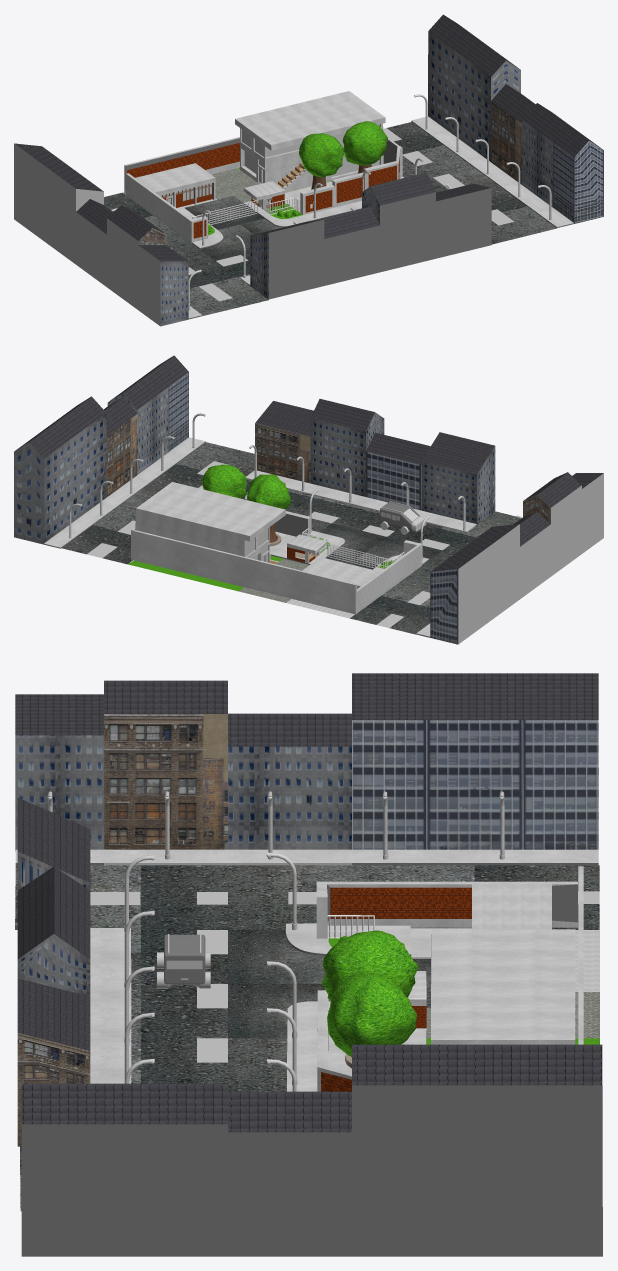
File: Tecsup.fbx
3 renders of one model, top to bottom at view 1: azimuth 30°, elevation 25°; view 2: azimuth 150°, elevation 25°; view 3: azimuth 270°, elevation 25°, orthographic. The views are drawn at different scales.
Parts seen in each view (by area): view 1: Line001, Box008, Sphere006, Sphere005, Box001; view 2: Line001, Sphere006, Box008, Sphere005, Box009, Box001; view 3: Line001, Sphere006, Sphere005, Box008, Box009.
Part boxes in pixels (x1,y1,x2,y2): Line001: [14, 14, 603, 326]; Box008: [135, 163, 215, 207]; Sphere006: [342, 121, 387, 165]; Sphere005: [299, 133, 343, 177]; Box001: [210, 200, 257, 224]; Line001: [14, 355, 603, 644]; Sphere006: [201, 464, 247, 498]; Box008: [302, 557, 380, 588]; Sphere005: [246, 474, 291, 509]; Box009: [380, 501, 426, 531]; Box001: [327, 543, 375, 568]; Line001: [15, 673, 602, 1256]; Sphere006: [327, 973, 416, 1056]; Sphere005: [321, 930, 418, 1000]; Box008: [472, 884, 551, 929]; Box009: [164, 933, 205, 984].
Bounding box in the file's own units: 280 × 60.06 × 161.
